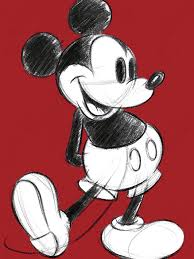mickey: (11, 1, 185, 259)
